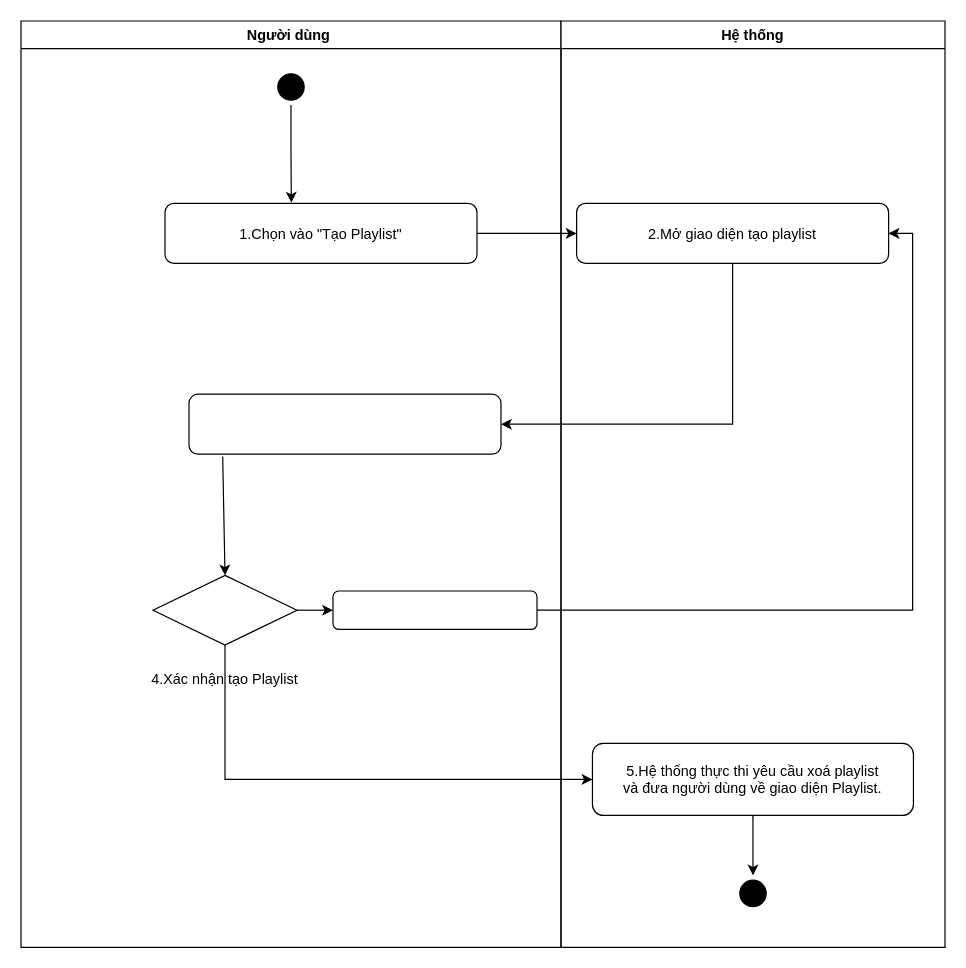
Some shapes in this 966 by 968 pixel diagram are drawn without their labels. Each missing label, with the centre of its shape:
3.Điền thông tin cho playlist, thêm nhạc vào playlist,...vv: (344,423)
4.1 Chọn huỷ: (434,609)
